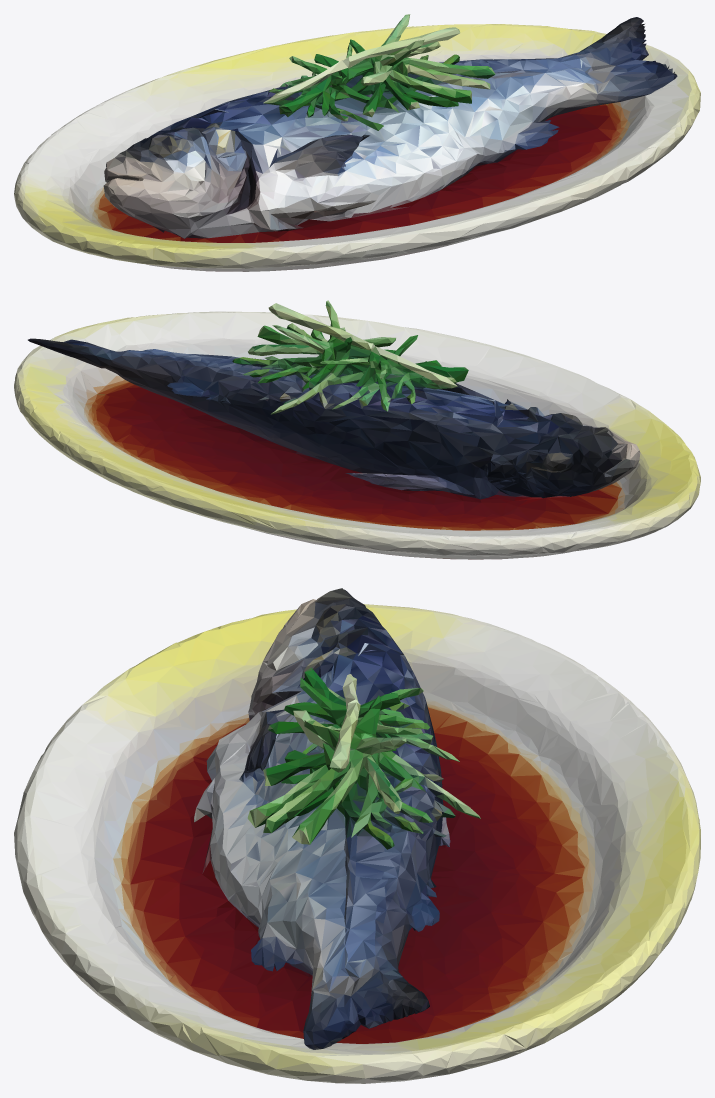
File: fish_steamed.glb
The picture shows the model from 3 angles, top to bottom: view 1: azimuth 30°, elevation 25°; view 2: azimuth 150°, elevation 25°; view 3: azimuth 270°, elevation 25°; orthographic projection. The views are drawn at different scales.
Visible parts, largest first — view 1: geometry_0; view 2: geometry_0; view 3: geometry_0.
Part boxes in pixels (x1,y1,x2,y2): geometry_0: (14,14,700,271); geometry_0: (14,300,700,559); geometry_0: (14,588,700,1083).
Size of the model in its own units: 0.34 by 0.0781 by 0.214.
Materials: 1 (1 with a texture image).
